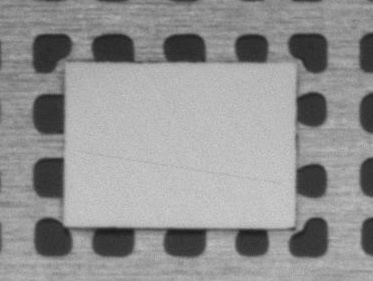DIE_CRACK: (102, 114, 373, 138)
